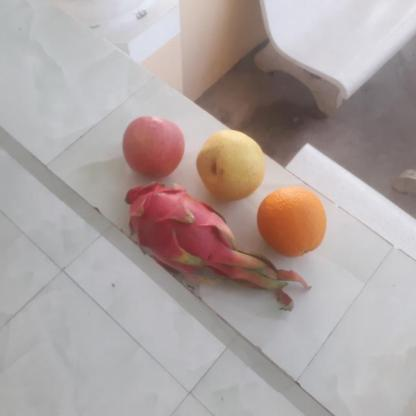apple: (119, 114, 186, 177)
orange: (254, 184, 326, 256)
pear: (193, 131, 267, 200)
pitaya: (125, 184, 228, 272)
